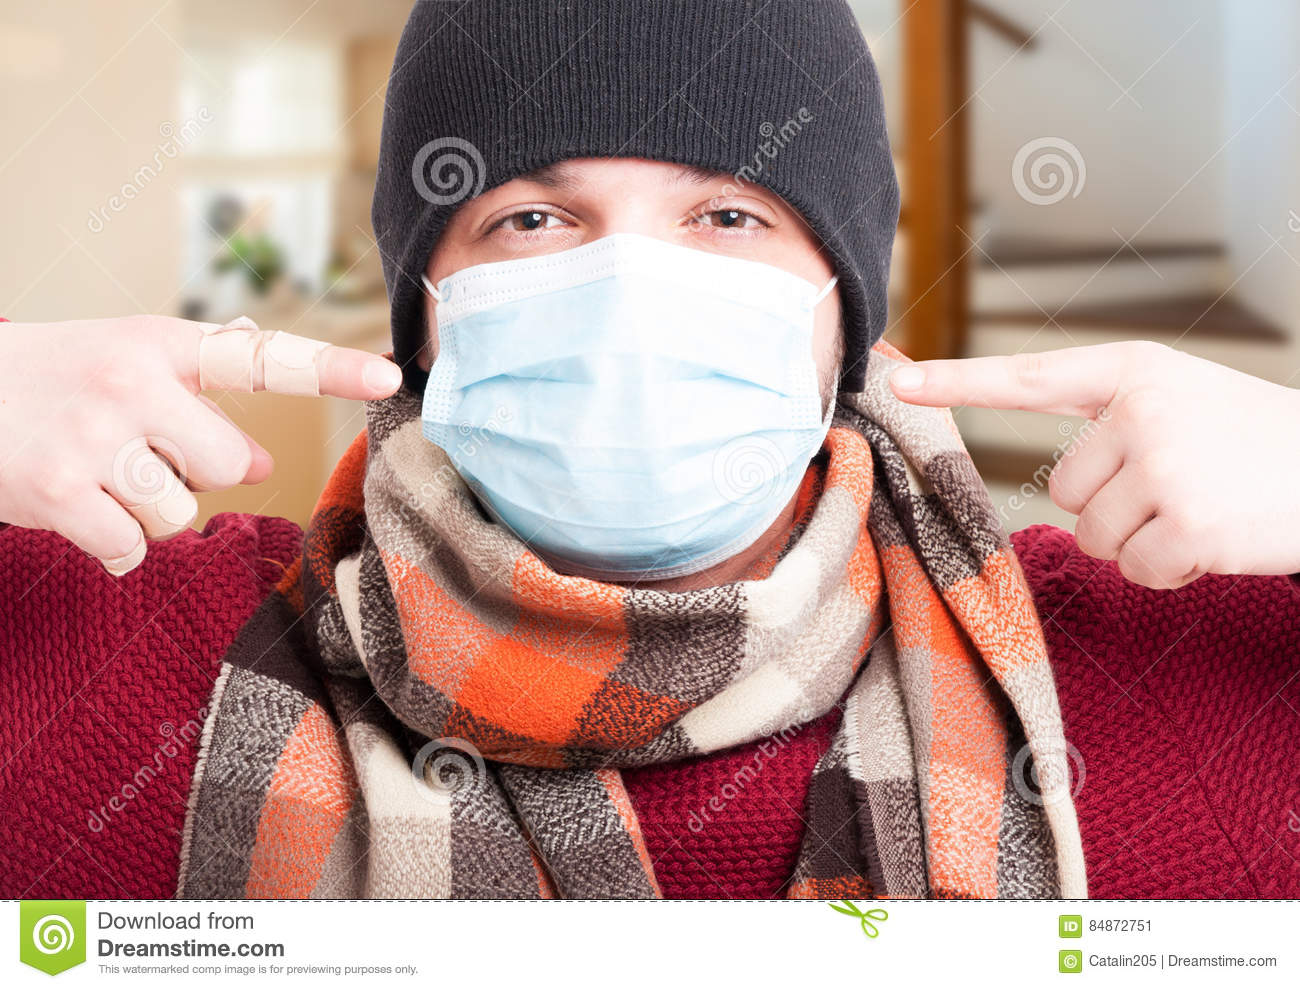mask: (434, 234, 828, 576)
